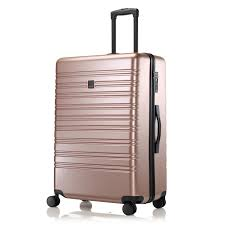suitcase: (45, 5, 168, 214)
